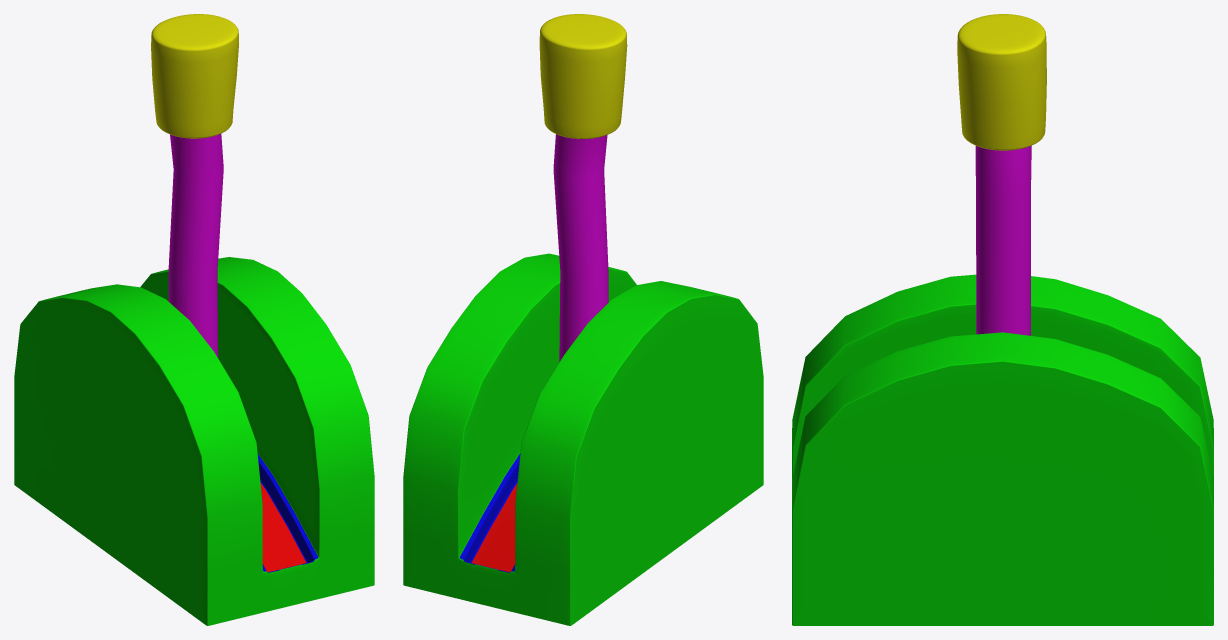
File: Lever.fbx
3 renders of one model, left to right at view 1: azimuth 30°, elevation 25°; view 2: azimuth 150°, elevation 25°; view 3: azimuth 270°, elevation 25°, orthographic. The views are drawn at different scales.
Parts seen in each view (by area): view 1: Leaver_Device, Lever_Handle; view 2: Leaver_Device, Lever_Handle; view 3: Leaver_Device, Lever_Handle.
Part boxes in pixels (x1,y1,x2,y2): Leaver_Device: (14, 257, 374, 625); Lever_Handle: (151, 14, 238, 357); Leaver_Device: (403, 253, 763, 625); Lever_Handle: (539, 14, 627, 361); Leaver_Device: (792, 274, 1213, 625); Lever_Handle: (957, 14, 1046, 335).
Bounding box in the file's own units: 38.29 × 110 × 76.41.
